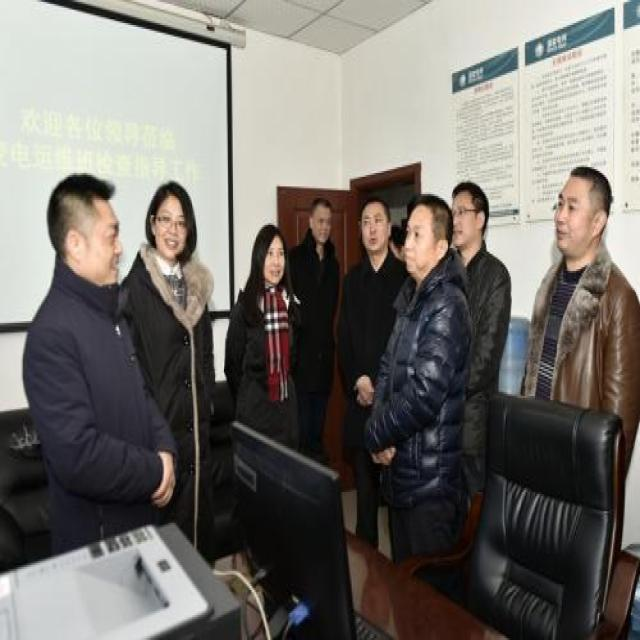no-helmet: (42, 171, 128, 294), (553, 160, 617, 265), (142, 175, 198, 263), (399, 190, 453, 281), (445, 175, 493, 256), (355, 190, 393, 264), (251, 221, 288, 292), (308, 192, 336, 248)
